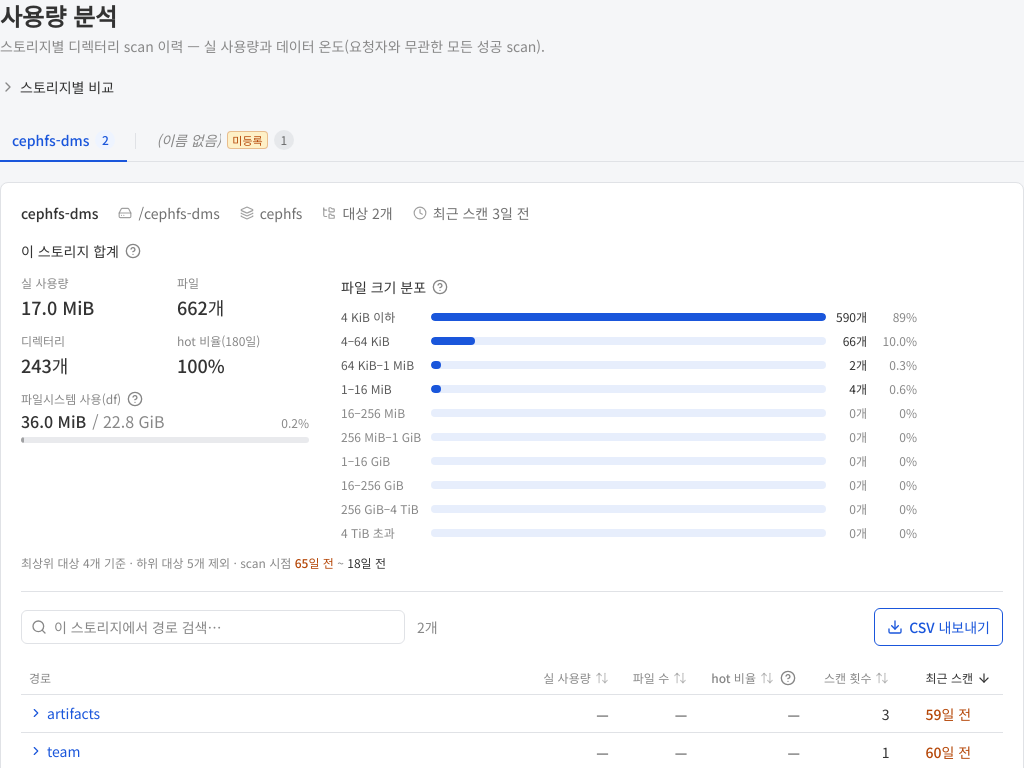
Test: 빈 이름(변조·구형 행) 탭: 「(이름 없음)」으로 보이고, 목록 요청은 storage= (빈 이름)로 나간다
Click the tab named "(이름 없음) 미등록 대상 1개" at point(225, 141), box [144,120,306,162]
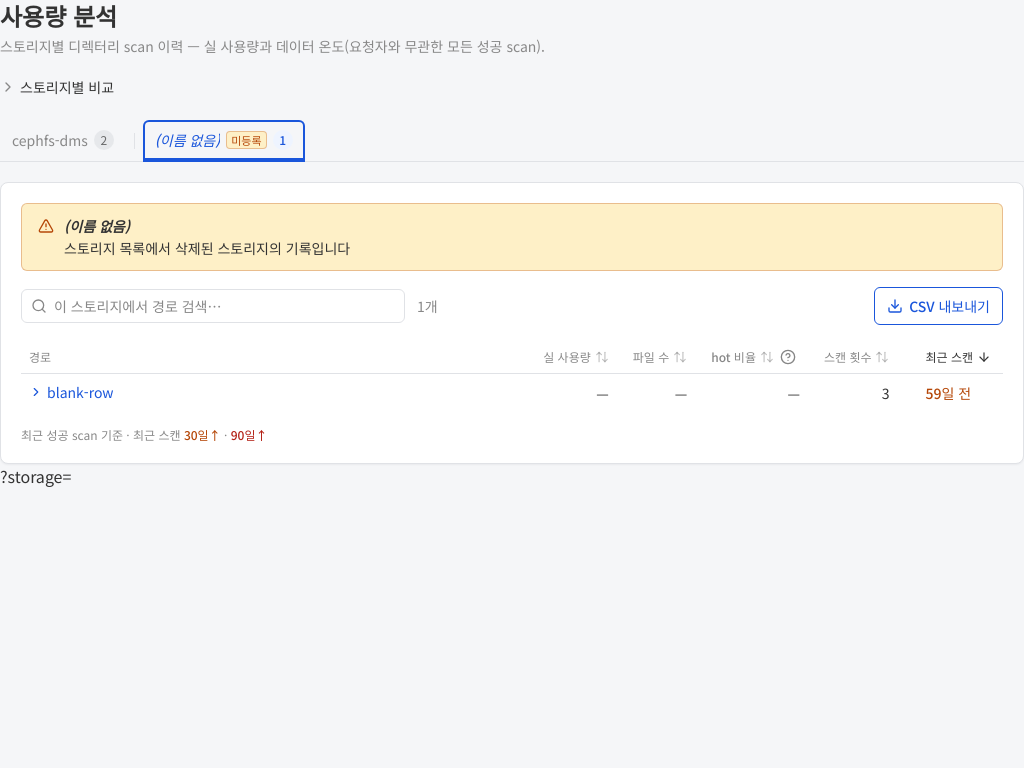
Expected: the button "blank-row" is shown, [29,382,114,402]
